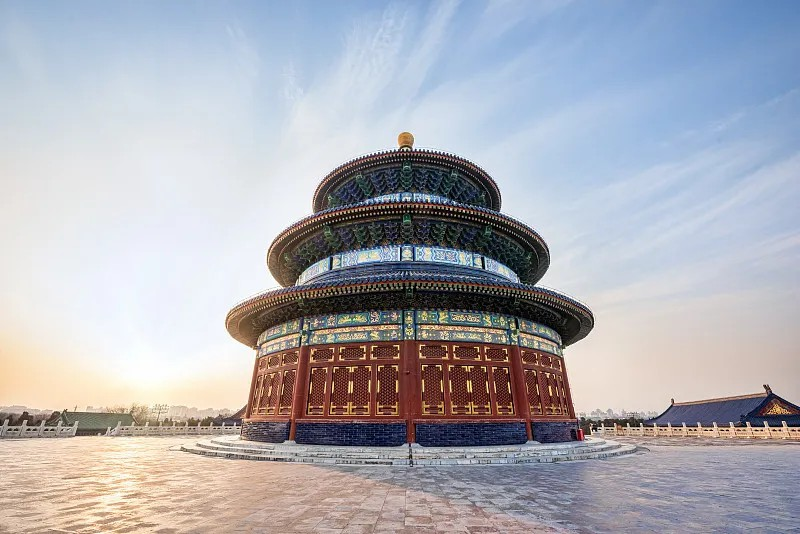Heaven: (223, 132, 595, 443)
